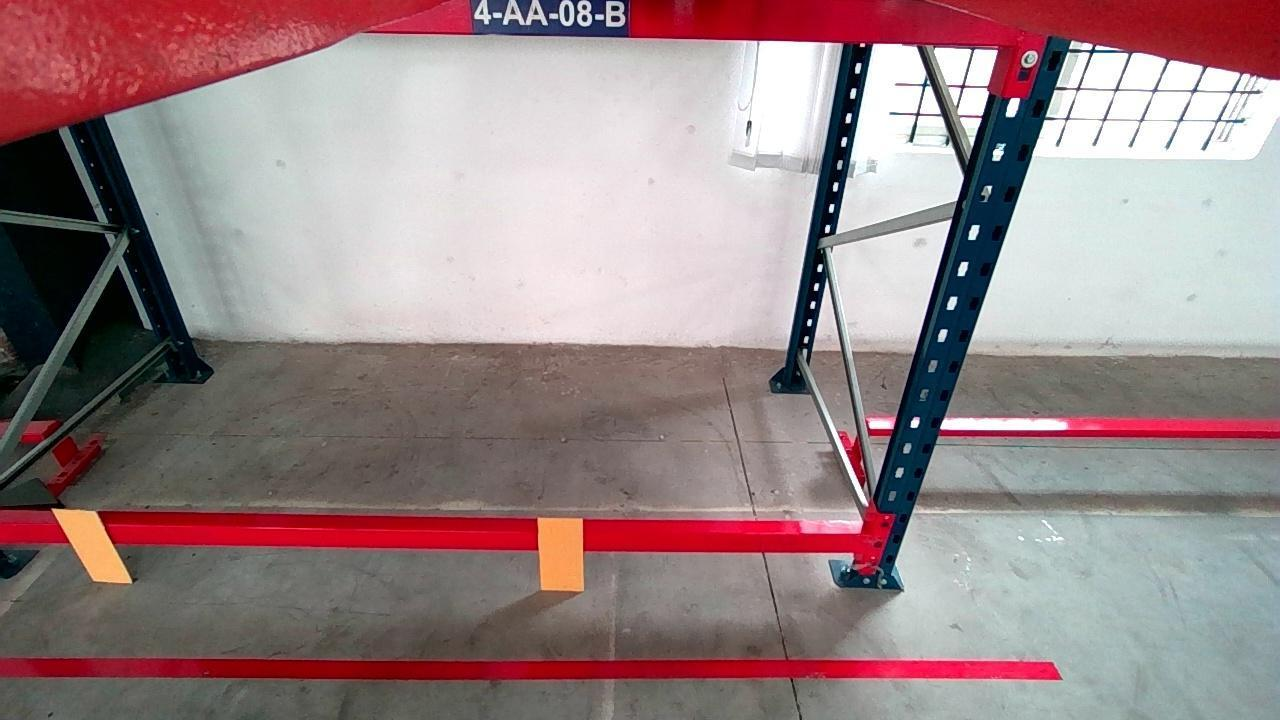h_rack: (365, 0, 1031, 44), (0, 519, 867, 552)
orange_strip: (50, 509, 132, 583), (537, 519, 585, 592)
red_line: (0, 657, 1064, 678)
